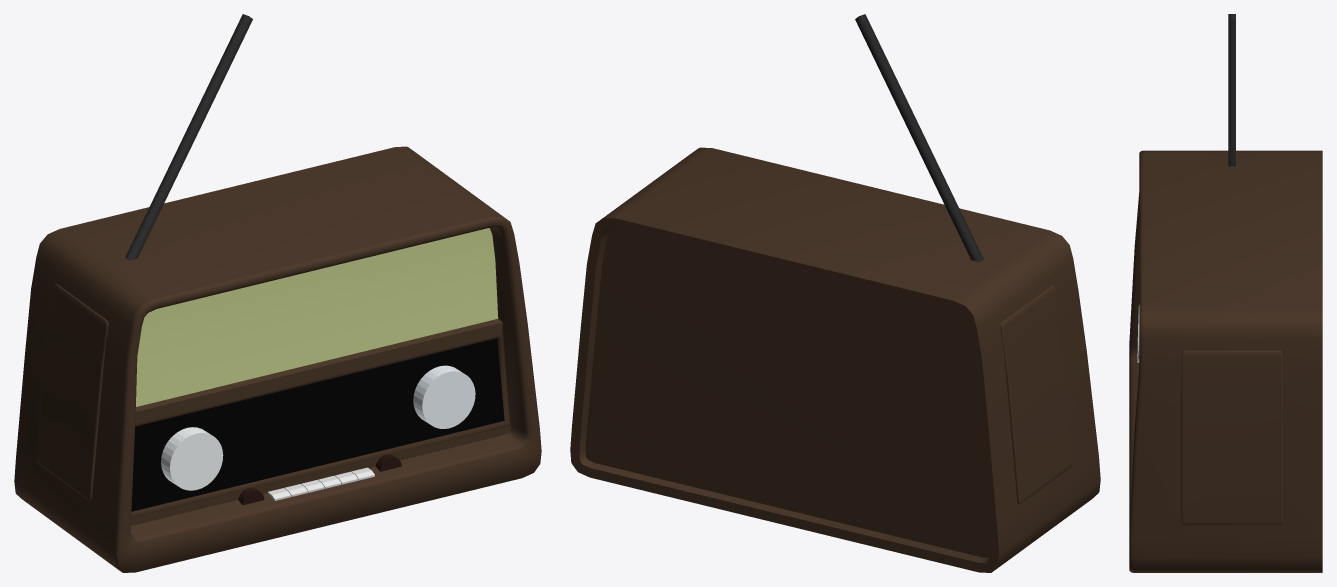
Rendered from low-poly radio.fbx.
3 renders of one model, left to right at view 1: azimuth 30°, elevation 25°; view 2: azimuth 150°, elevation 25°; view 3: azimuth 270°, elevation 25°, orthographic. The views are drawn at different scales.
Parts seen in each view (by area): view 1: Radio, screen, bottom panel, antenn, button 2, button, bottom buttons, bottom buttons 2; view 2: Radio, antenn; view 3: Radio, antenn.
Part boxes in pixels (<box>): Radio: <box>14,146,541,572</box>; screen: <box>136,228,498,406</box>; bottom panel: <box>131,338,504,511</box>; antenn: <box>125,14,252,260</box>; button 2: <box>413,365,475,428</box>; button: <box>161,427,223,490</box>; bottom buttons: <box>267,467,374,500</box>; bottom buttons 2: <box>238,454,401,505</box>; Radio: <box>570,147,1100,572</box>; antenn: <box>855,14,983,261</box>; Radio: <box>1129,150,1322,572</box>; antenn: <box>1228,14,1235,166</box>.
Bounding box in the file's own units: 0.4506 × 0.4834 × 0.1869.
